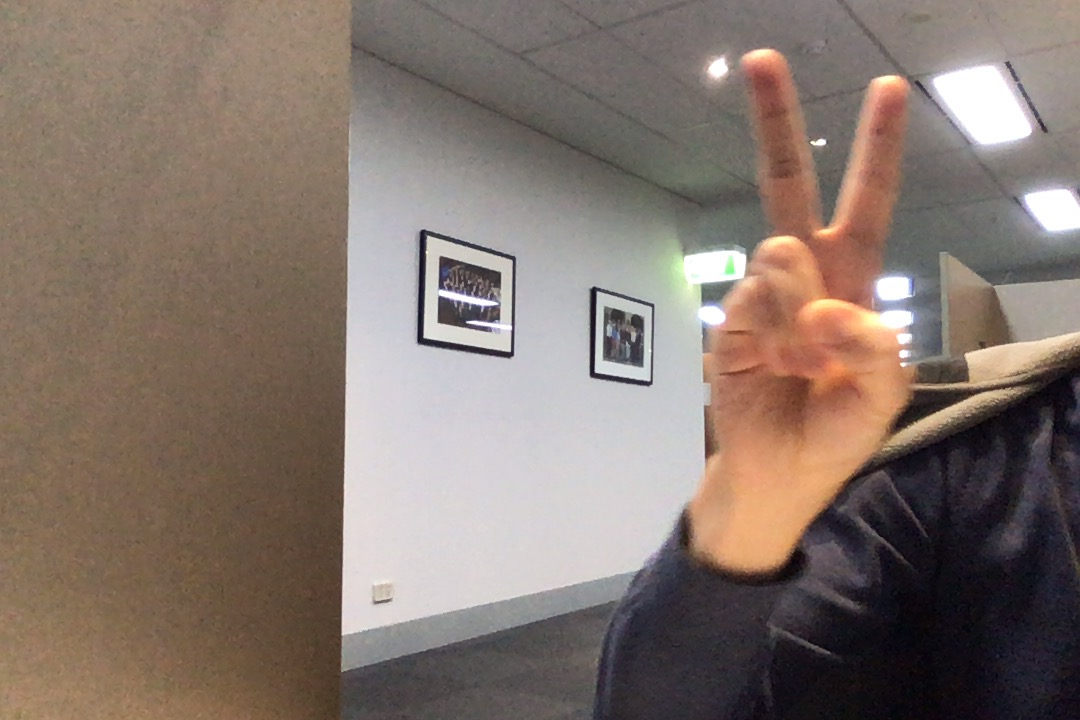peacesign: (683, 38, 936, 498)
